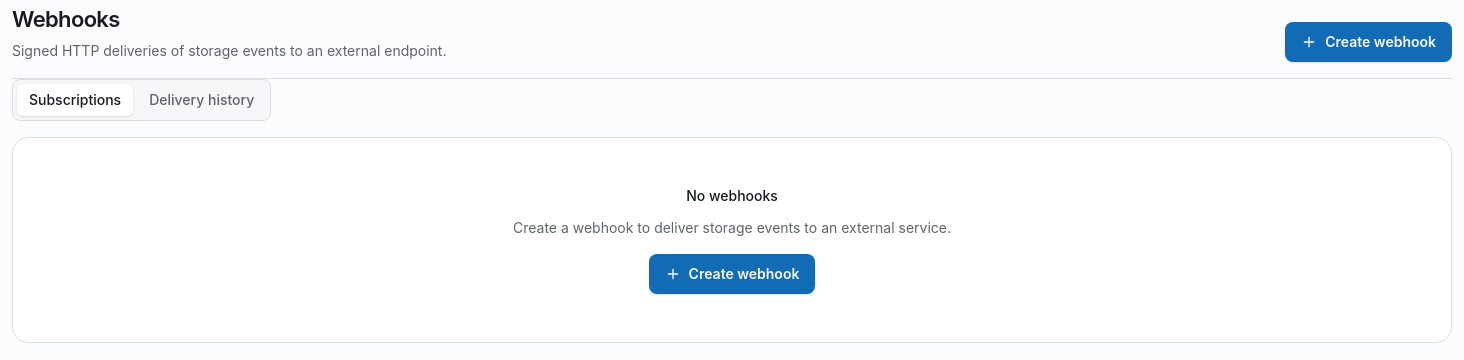
Scenario: WebhooksScreen › renders successful and failed delivery history
expect the text "No webhooks" is shown: met, box [686,186,778,206]
Click the tab "Delivery history".
click(202, 100)  # box [137,84,266,116]
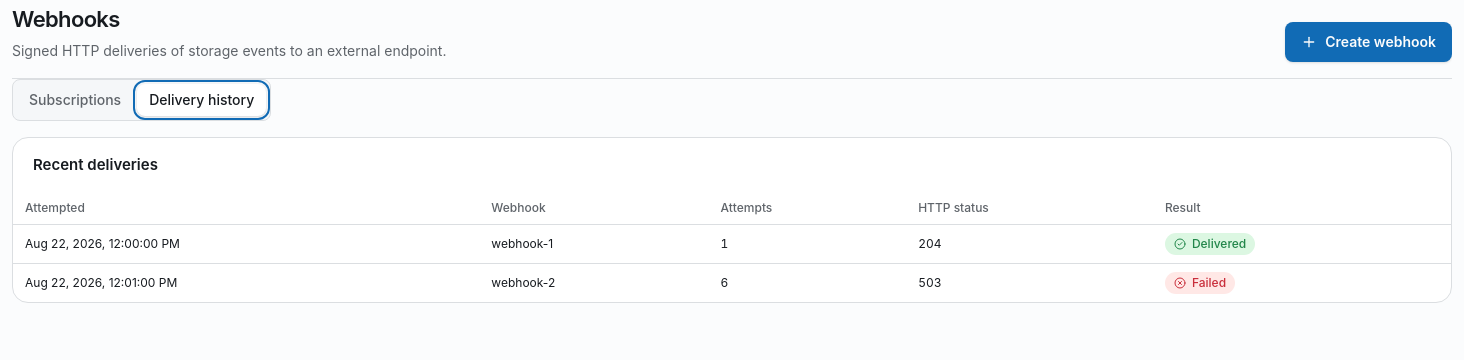
expect the text "Delivered" is shown: met, box [1192,236,1246,252]
expect the text "Failed" is shown: met, box [1192,275,1226,291]
expect the text "204" is shown: met, box [906,224,1153,264]
